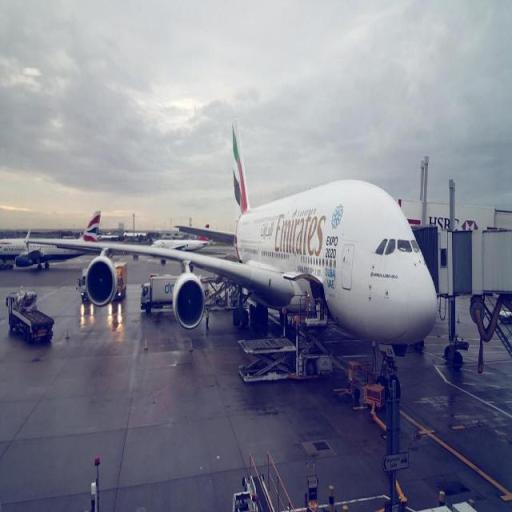Emirates: (267, 207, 326, 259)
